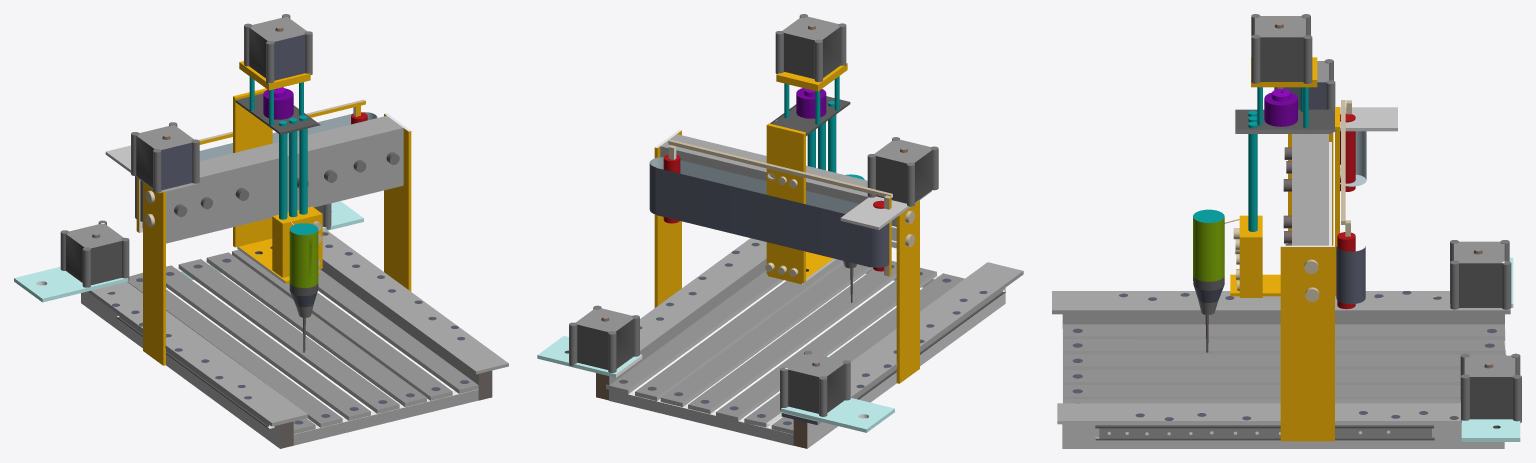
Rendered from maquina_002.gltf.
3 views of the same model, side by side, from view 1: azimuth 30°, elevation 25°; view 2: azimuth 150°, elevation 25°; view 3: azimuth 270°, elevation 25° (orthographic). The views are drawn at different scales.
Visible parts, largest first — view 1: Mesh1 Model, Mesh6 Model, Mesh5 Model, Mesh16 Model, Mesh7 Model, Mesh15 Model, Mesh28 Model, Mesh30 Model, Mesh26 Model, Mesh13 Model, Mesh10 Model, Mesh14 Model (+6 smaller); view 2: Mesh1 Model, Mesh11 Model, Mesh6 Model, Mesh5 Model, Mesh7 Model, Mesh13 Model, Mesh30 Model, Mesh28 Model, Mesh18 Model, Mesh26 Model, Mesh10 Model, Mesh15 Model (+6 smaller); view 3: Mesh1 Model, Mesh6 Model, Mesh5 Model, Mesh16 Model, Mesh3 Model, Mesh26 Model, Mesh30 Model, Mesh18 Model, Mesh14 Model, Mesh15 Model, Mesh12 Model, Mesh9 Model (+10 smaller).
Boxes of the visible parts, x1=… form: Mesh1 Model: x1=81, y1=230, x2=508, y2=448; Mesh6 Model: x1=166, y1=113, x2=411, y2=291; Mesh5 Model: x1=87, y1=282, x2=307, y2=426; Mesh16 Model: x1=272, y1=206, x2=322, y2=317; Mesh7 Model: x1=143, y1=182, x2=165, y2=365; Mesh15 Model: x1=237, y1=115, x2=319, y2=283; Mesh28 Model: x1=131, y1=122, x2=193, y2=190; Mesh30 Model: x1=244, y1=14, x2=306, y2=80; Mesh26 Model: x1=60, y1=220, x2=123, y2=285; Mesh13 Model: x1=233, y1=88, x2=272, y2=247; Mesh10 Model: x1=14, y1=237, x2=129, y2=302; Mesh14 Model: x1=235, y1=87, x2=320, y2=134; Mesh1 Model: x1=596, y1=238, x2=1005, y2=448; Mesh11 Model: x1=656, y1=160, x2=891, y2=276; Mesh6 Model: x1=654, y1=129, x2=896, y2=307; Mesh5 Model: x1=781, y1=262, x2=1023, y2=424; Mesh7 Model: x1=896, y1=200, x2=919, y2=383; Mesh13 Model: x1=765, y1=123, x2=805, y2=283; Mesh30 Model: x1=775, y1=16, x2=840, y2=81; Mesh28 Model: x1=867, y1=139, x2=932, y2=206; Mesh18 Model: x1=569, y1=308, x2=633, y2=372; Mesh26 Model: x1=780, y1=353, x2=844, y2=416; Mesh10 Model: x1=781, y1=350, x2=894, y2=432; Mesh15 Model: x1=768, y1=101, x2=836, y2=284; Mesh1 Model: x1=1057, y1=314, x2=1506, y2=448; Mesh6 Model: x1=1280, y1=134, x2=1334, y2=441; Mesh5 Model: x1=1052, y1=291, x2=1510, y2=314; Mesh16 Model: x1=1193, y1=209, x2=1262, y2=314; Mesh3 Model: x1=1095, y1=428, x2=1434, y2=440; Mesh26 Model: x1=1454, y1=240, x2=1511, y2=309; Mesh30 Model: x1=1255, y1=14, x2=1312, y2=83; Mesh18 Model: x1=1464, y1=353, x2=1521, y2=422; Mesh14 Model: x1=1235, y1=89, x2=1336, y2=133; Mesh15 Model: x1=1230, y1=110, x2=1336, y2=296; Mesh12 Model: x1=1336, y1=246, x2=1365, y2=304; Mesh9 Model: x1=1461, y1=419, x2=1520, y2=441.
Size of the model in its own units: 148 by 142 by 166.
